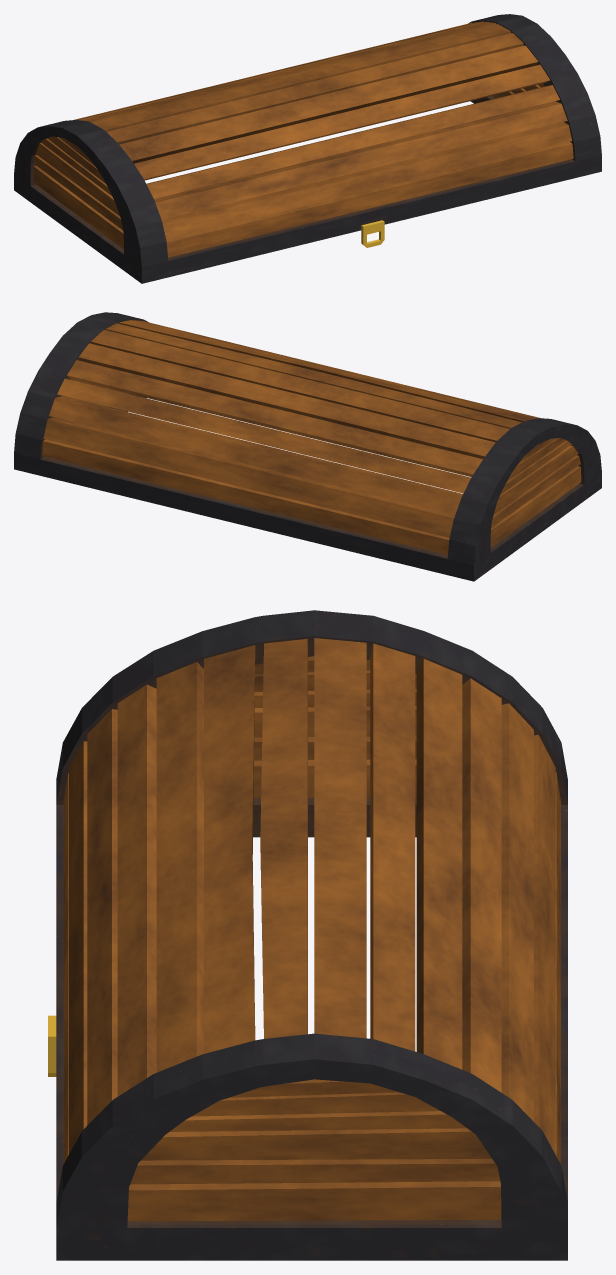
File: Lid UV.fbx
3 renders of one model, top to bottom at view 1: azimuth 30°, elevation 25°; view 2: azimuth 150°, elevation 25°; view 3: azimuth 270°, elevation 25°, orthographic. The views are drawn at different scales.
Visible parts, largest first — view 1: Lid UV; view 2: Lid UV; view 3: Lid UV.
Boxes of the visible parts, x1,y1,x2,y2 form: Lid UV: [14, 14, 601, 283]; Lid UV: [14, 312, 601, 581]; Lid UV: [48, 610, 567, 1260].
Bounding box in the file's own units: 169 × 41.3 × 82.61.
